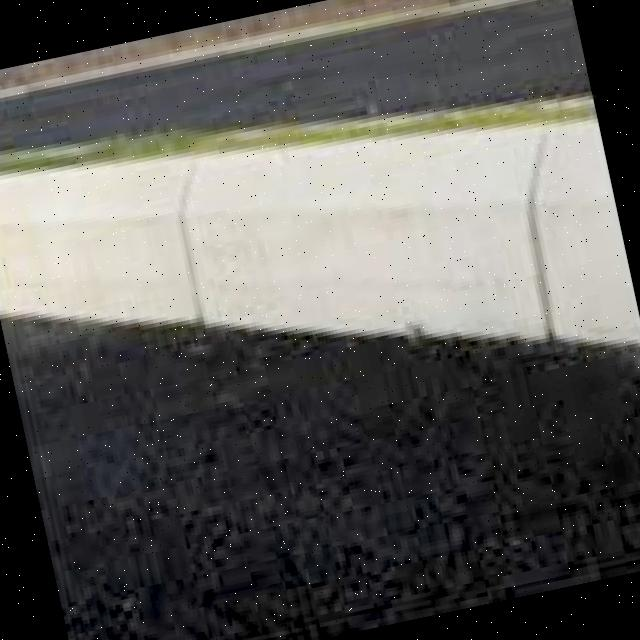curb: (212, 57, 640, 436), (1, 108, 249, 397)
